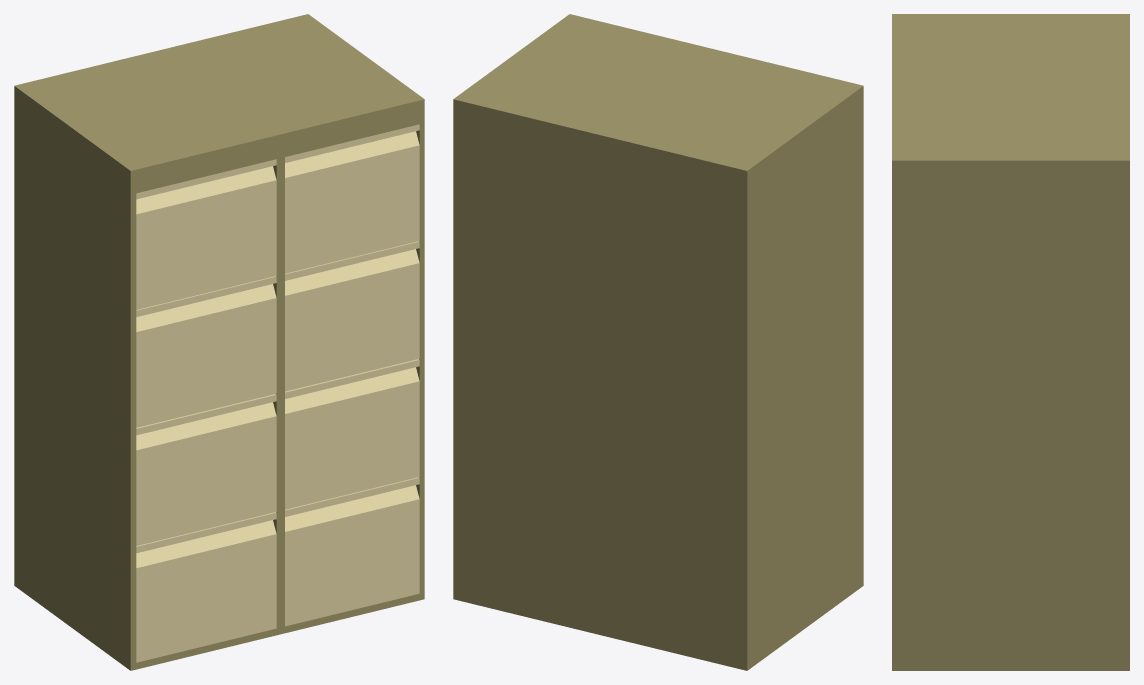
The model's file is cupboardSet.fbx.
The picture shows the model from 3 angles, left to right: view 1: azimuth 30°, elevation 25°; view 2: azimuth 150°, elevation 25°; view 3: azimuth 270°, elevation 25°; orthographic projection. The views are drawn at different scales.
Visible parts, largest first — view 1: Cube, Cube.003, Cube.004, Cube.002, Cube.005, Cube.007, Cube.008, Cube.006, Cube.009; view 2: Cube; view 3: Cube.
Boxes of the visible parts, box(x1,y1,x2,y2) form: Cube: box(14, 14, 424, 670); Cube.003: box(136, 394, 276, 545); Cube.004: box(136, 276, 276, 427); Cube.002: box(136, 512, 276, 662); Cube.005: box(136, 159, 276, 309); Cube.007: box(285, 359, 419, 509); Cube.008: box(285, 241, 419, 391); Cube.006: box(285, 477, 419, 626); Cube.009: box(285, 124, 419, 273); Cube: box(453, 14, 863, 670); Cube: box(892, 14, 1129, 670).
Size of the model in its own units: 188 by 305 by 129.
